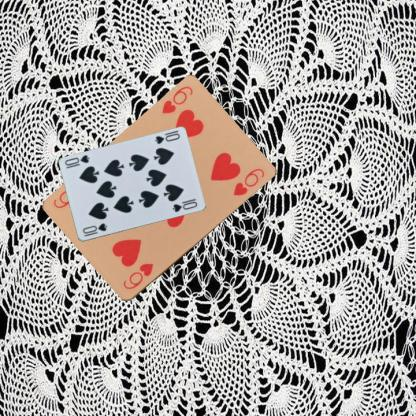10s: (80, 221, 108, 238), (152, 130, 181, 146)
6h: (159, 84, 194, 116), (120, 261, 155, 291)
